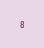eight: (19, 20, 23, 27)
